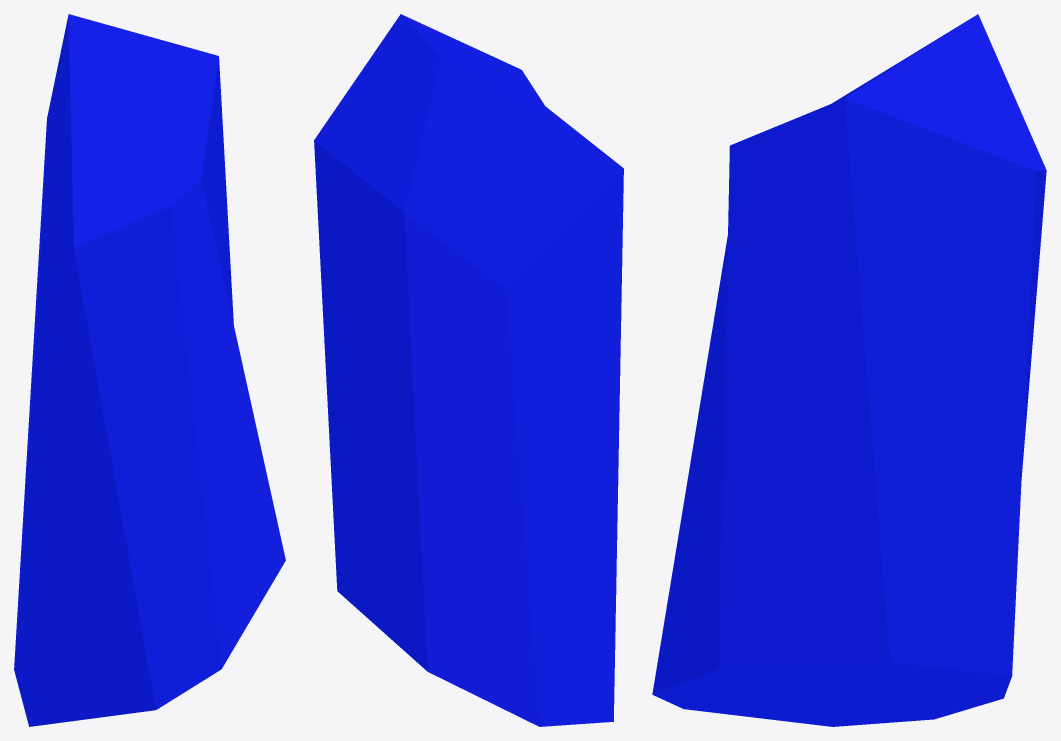
File: crystal4.fbx
3 renders of one model, left to right at view 1: azimuth 30°, elevation 25°; view 2: azimuth 150°, elevation 25°; view 3: azimuth 270°, elevation 25°, orthographic. The views are drawn at different scales.
Parts seen in each view (by area): view 1: crystal4; view 2: crystal4; view 3: crystal4.
Boxes of the visible parts, left/top/right/bottom form: crystal4: left=14, top=14, right=285, bottom=726; crystal4: left=314, top=14, right=623, bottom=726; crystal4: left=652, top=14, right=1046, bottom=726.
Bounding box in the file's own units: 179 × 465 × 215.
